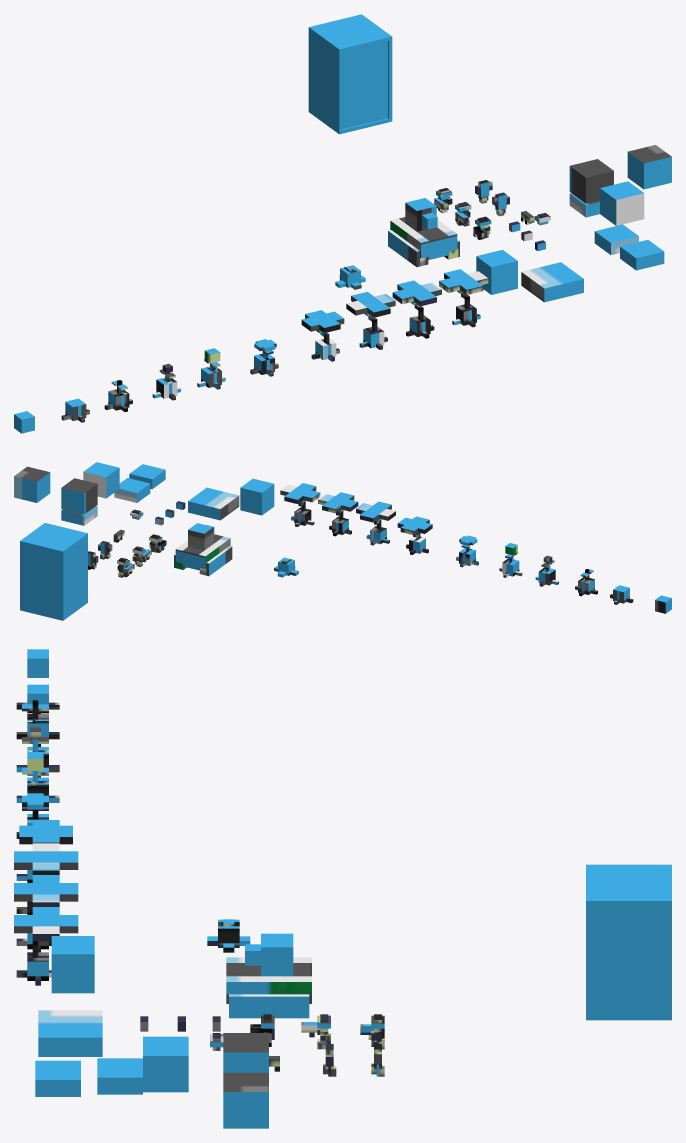
The model's file is humans.dae.
3 renders of one model, top to bottom at view 1: azimuth 30°, elevation 25°; view 2: azimuth 150°, elevation 25°; view 3: azimuth 270°, elevation 25°, orthographic. The views are drawn at different scales.
Parts seen in each view (by area): view 1: _5, Box_7, Box_9, _10, _4, Box_10, Box_12, Box_11, _8, Box_8, Box_19, _9 (+4 smaller); view 2: _5, Box_7, Box_9, _8, _10, Box_8, Box_11, Box_10, Box_12, _4, Box_19, _11 (+12 smaller); view 3: _5, Box_7, Box_9, _4, _10, Box_8, Box_11, Box_10, _8, Box_12, _9, _11 (+5 smaller).
Boxes of the visible parts, x1=… form: _5: x1=308, y1=14, x2=392, y2=134; Box_7: x1=388, y1=198, x2=459, y2=267; Box_9: x1=521, y1=262, x2=583, y2=302; _10: x1=627, y1=145, x2=671, y2=189; _4: x1=600, y1=181, x2=644, y2=225; Box_10: x1=392, y1=280, x2=441, y2=338; Box_12: x1=346, y1=292, x2=395, y2=349; Box_11: x1=439, y1=269, x2=488, y2=327; _8: x1=569, y1=159, x2=613, y2=203; Box_8: x1=476, y1=250, x2=517, y2=294; Box_19: x1=301, y1=310, x2=344, y2=361; _9: x1=620, y1=240, x2=664, y2=270; _5: x1=20, y1=523, x2=87, y2=620; Box_7: x1=174, y1=523, x2=232, y2=576; Box_9: x1=188, y1=487, x2=239, y2=520; _8: x1=61, y1=478, x2=97, y2=514; _10: x1=14, y1=466, x2=50, y2=502; Box_8: x1=240, y1=478, x2=274, y2=515; Box_11: x1=280, y1=483, x2=320, y2=526; Box_10: x1=318, y1=492, x2=358, y2=536; Box_12: x1=356, y1=501, x2=395, y2=545; _4: x1=83, y1=462, x2=119, y2=498; Box_19: x1=397, y1=516, x2=432, y2=554; _11: x1=114, y1=478, x2=150, y2=502; _5: x1=586, y1=864, x2=671, y2=1020; Box_7: x1=226, y1=933, x2=311, y2=1018; Box_9: x1=38, y1=1010, x2=102, y2=1056; _4: x1=143, y1=1036, x2=188, y2=1092; _10: x1=223, y1=1072, x2=268, y2=1128; Box_8: x1=51, y1=936, x2=94, y2=993; Box_11: x1=14, y1=907, x2=78, y2=985; Box_10: x1=14, y1=875, x2=78, y2=952; _8: x1=223, y1=1033, x2=268, y2=1072; Box_12: x1=14, y1=843, x2=78, y2=914; _9: x1=35, y1=1060, x2=80, y2=1096; _11: x1=97, y1=1058, x2=142, y2=1094.
Size of the model in its own units: 435 by 66 by 245.
1 material, 1 textured.
